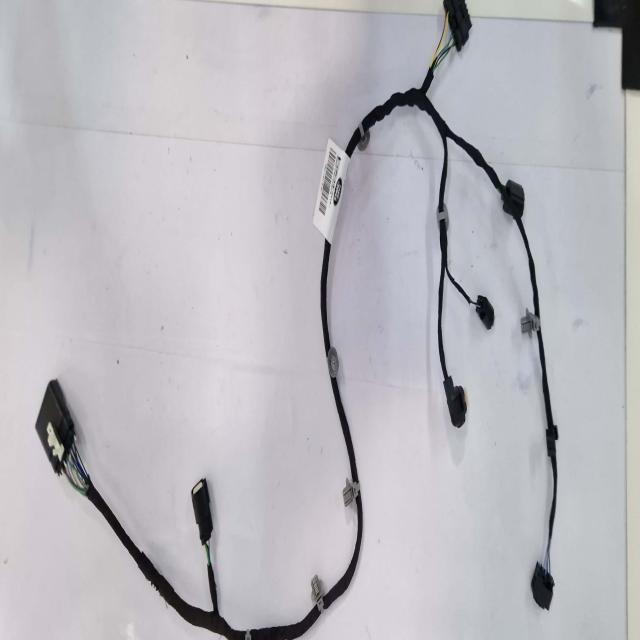Clip: (521, 312, 540, 341), (343, 475, 359, 504), (311, 574, 323, 612), (545, 427, 558, 459), (327, 348, 338, 380), (438, 202, 450, 231), (357, 126, 370, 152), (249, 615, 261, 640)
Connector: (35, 380, 75, 474), (191, 477, 212, 545), (445, 379, 468, 428), (533, 566, 555, 612), (502, 185, 526, 226), (478, 297, 496, 332)
Gape: (64, 439, 90, 495), (434, 23, 459, 81), (543, 535, 554, 570), (472, 294, 484, 317)
MHEV_N11_Cable: (35, 124, 365, 640), (365, 59, 539, 427), (532, 327, 558, 607), (450, 0, 474, 61)
